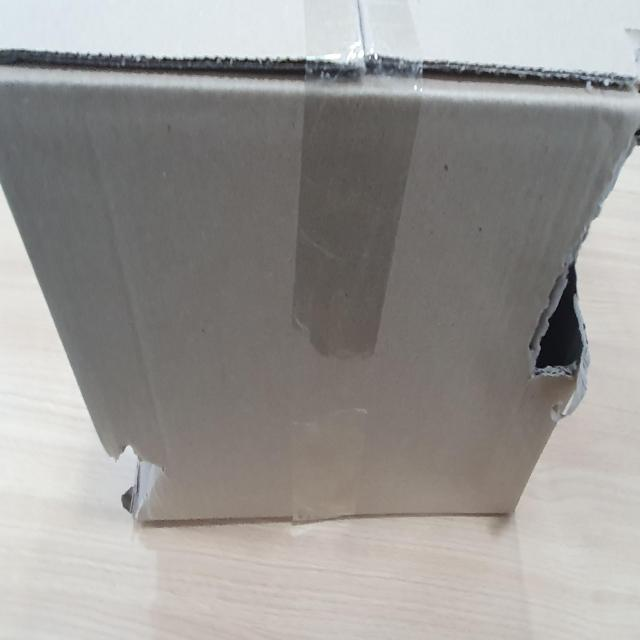damaged: (108, 442, 164, 534)
